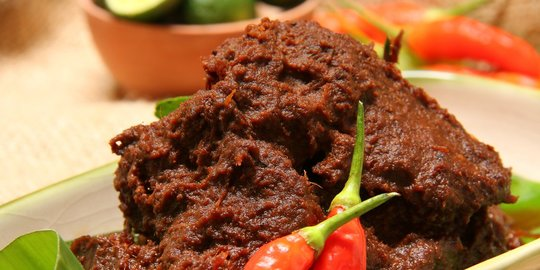rendang: (78, 11, 515, 270)
